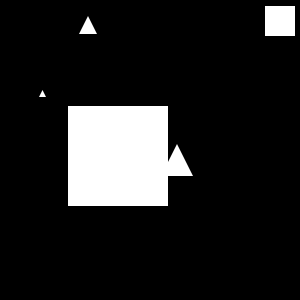circle: (68, 106, 168, 206), (265, 6, 295, 36)
triangle: (161, 144, 193, 176), (79, 16, 97, 34), (39, 90, 46, 97)
